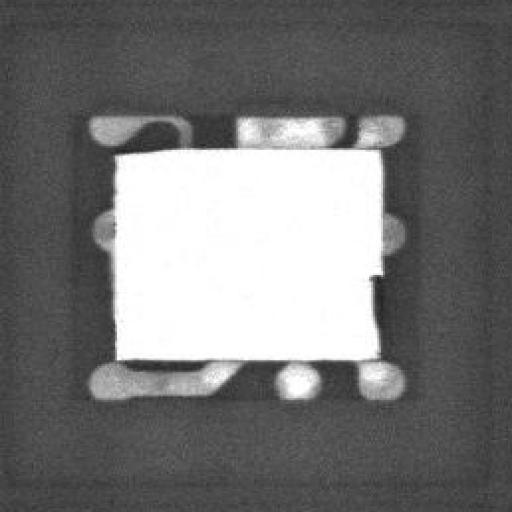DIE_BROKEN: (367, 272, 381, 358), (111, 144, 173, 154)
